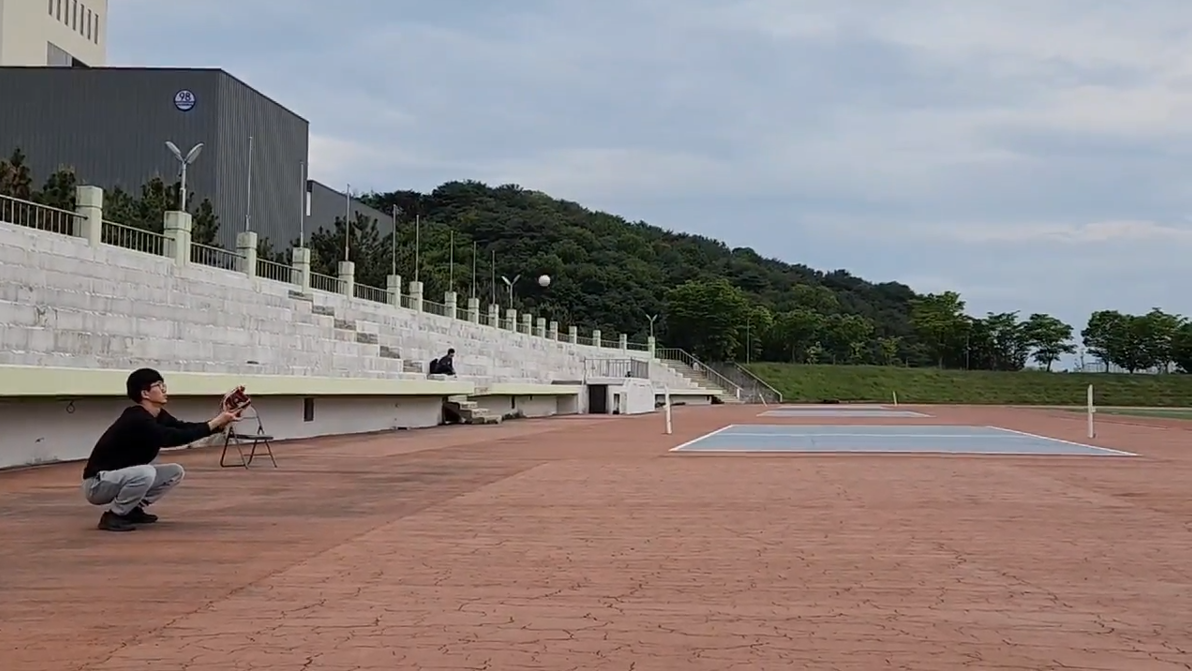ball: (538, 275, 552, 286)
